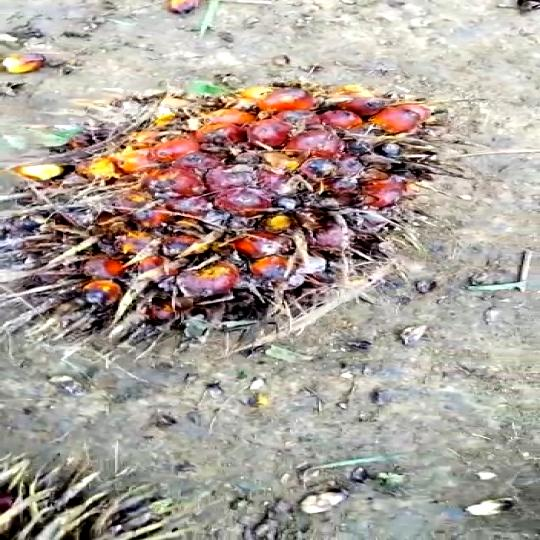masak: (4, 71, 459, 338)
